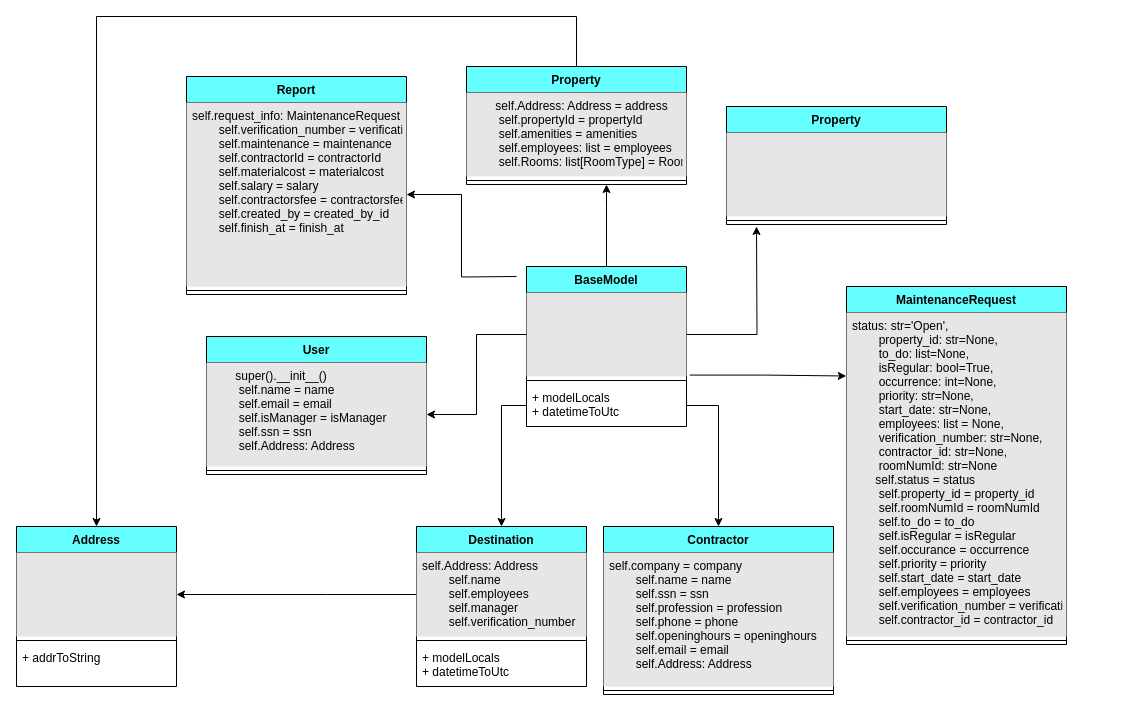
The diagram is 1140 pixels wide and 711 high, and some of its shapes have lost their labels. Each missing label, with the centre of its shape:
"+ country + city + zip + address 1 + address" goes at point (96, 594).
"+ id + created at + is_Active + is_Archaved" goes at point (606, 334).
"self.size = size self.roomId = roomId" goes at point (836, 174).
